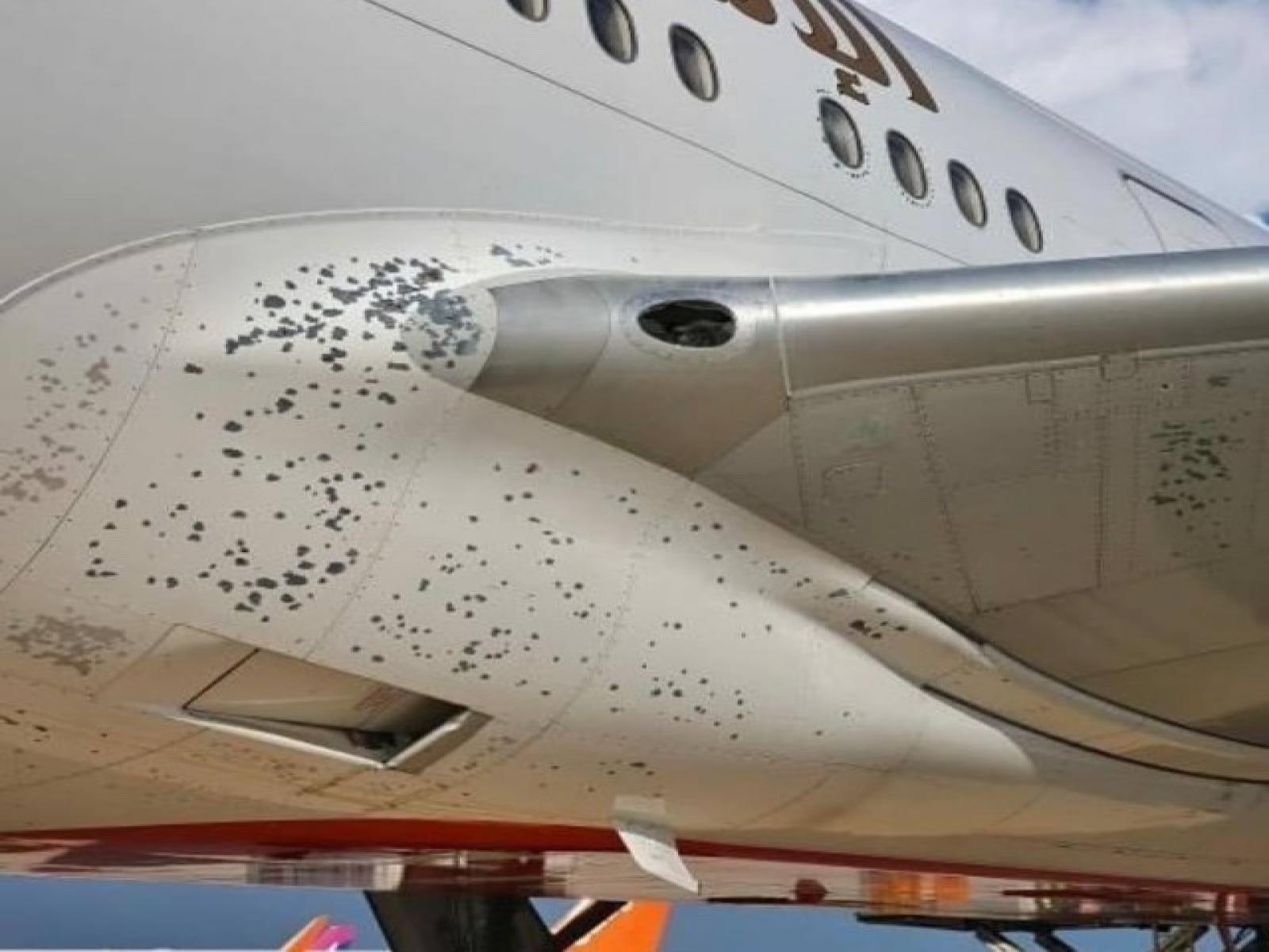Wing_damage: (339, 450, 916, 755), (68, 256, 453, 625), (0, 322, 132, 524), (1, 607, 145, 684), (397, 281, 494, 384)
